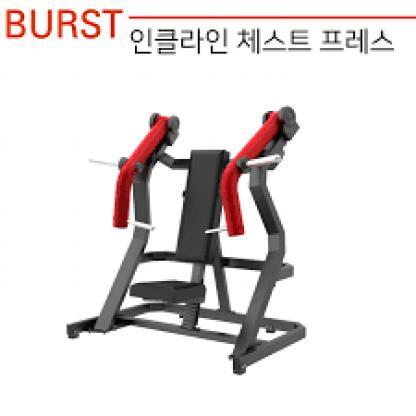Chest Press machine: (55, 101, 337, 380)
